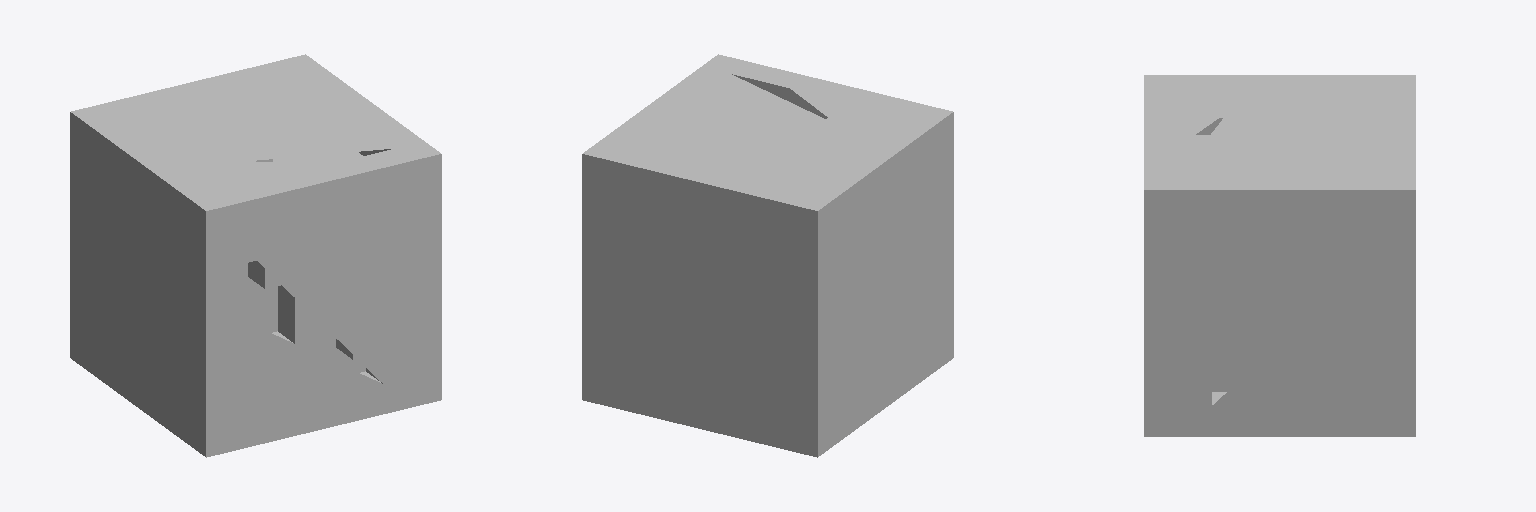
Rendered from Box_Big.obj.
3 views of the same model, side by side, from view 1: azimuth 30°, elevation 25°; view 2: azimuth 150°, elevation 25°; view 3: azimuth 270°, elevation 25° (orthographic).
Visible parts, largest first — view 1: Box_Big_Box_Big.002; view 2: Box_Big_Box_Big.002; view 3: Box_Big_Box_Big.002.
Boxes of the visible parts, <box> form: Box_Big_Box_Big.002: <box>70,54,441,457</box>; Box_Big_Box_Big.002: <box>582,54,953,457</box>; Box_Big_Box_Big.002: <box>1144,75,1415,436</box>.
Size of the model in its own units: 0.8 by 0.8 by 0.8.